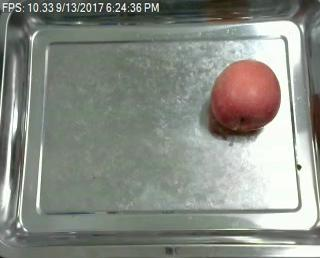apple: (211, 59, 281, 131)
